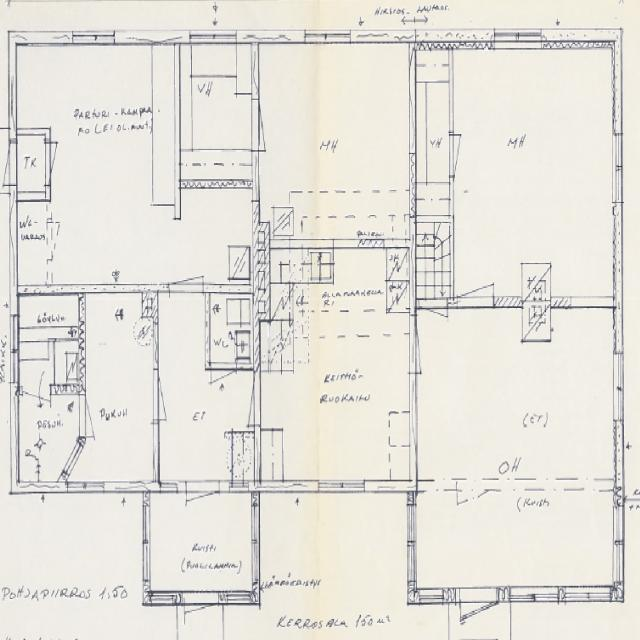door: (409, 314, 454, 374), (457, 240, 494, 308), (168, 228, 204, 293), (186, 481, 220, 546), (218, 372, 260, 424), (459, 587, 498, 640), (152, 370, 191, 420), (183, 591, 218, 640), (45, 142, 79, 186), (22, 384, 50, 437), (80, 394, 112, 434), (211, 362, 237, 409), (0, 140, 19, 184)
